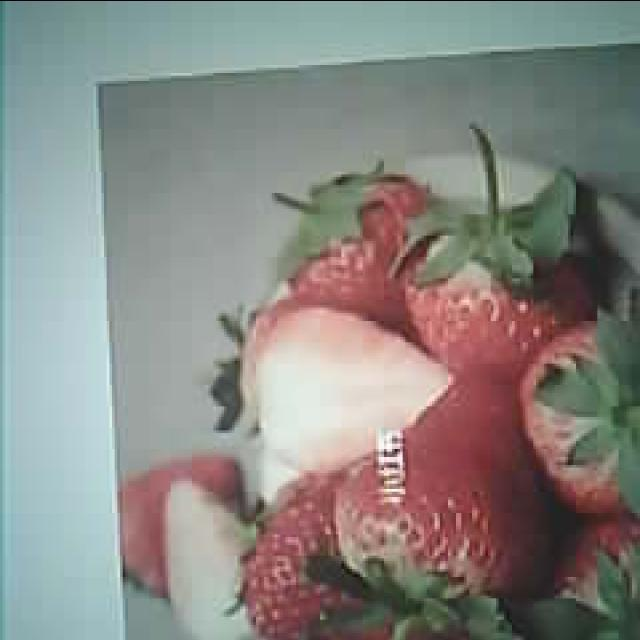strawberry: (337, 374, 545, 600)
